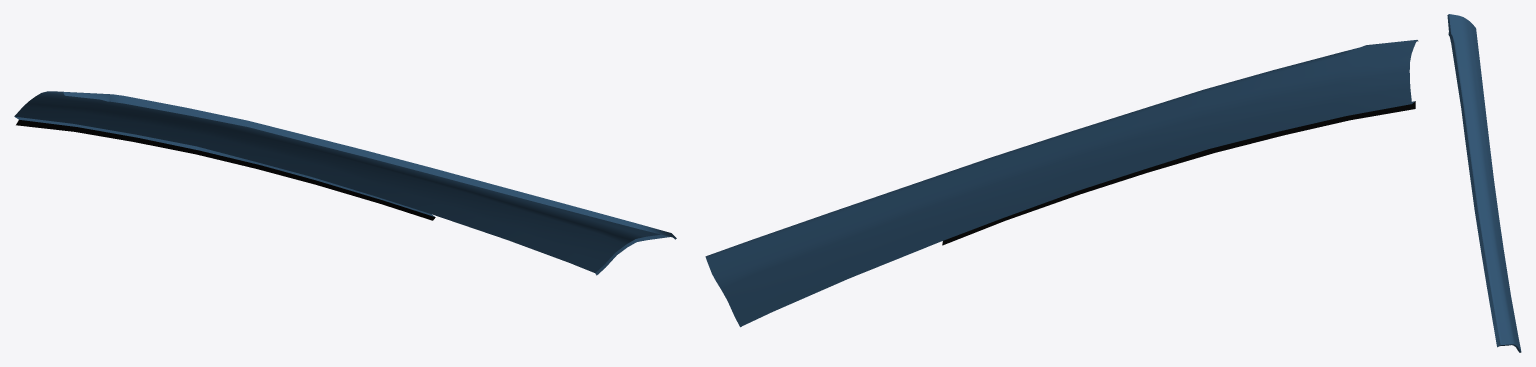
3 views of the same model, side by side, from view 1: azimuth 30°, elevation 25°; view 2: azimuth 150°, elevation 25°; view 3: azimuth 270°, elevation 25° (orthographic). The views are drawn at different scales.
Parts seen in each view (by area): view 1: Y191_13_181C_L_Y191_13_181C_L_DaS, Y191_13_181C_L_Y191_13_181C_L_DaS_E, Y191_13_181C_L_D_Y191_13_181C_L; view 2: Y191_13_181C_L_Y191_13_181C_L_DaS, Y191_13_181C_L_D_Y191_13_181C_L; view 3: Y191_13_181C_L_Y191_13_181C_L_DaS, Y191_13_181C_L_Y191_13_181C_L_DaS_E.
Part boxes in pixels (x1,y1,x2,y2): Y191_13_181C_L_Y191_13_181C_L_DaS: [14, 91, 660, 272]; Y191_13_181C_L_Y191_13_181C_L_DaS_E: [14, 92, 676, 275]; Y191_13_181C_L_D_Y191_13_181C_L: [16, 120, 435, 220]; Y191_13_181C_L_Y191_13_181C_L_DaS: [705, 40, 1416, 326]; Y191_13_181C_L_D_Y191_13_181C_L: [942, 101, 1415, 245]; Y191_13_181C_L_Y191_13_181C_L_DaS: [1449, 14, 1521, 351]; Y191_13_181C_L_Y191_13_181C_L_DaS_E: [1447, 14, 1521, 352].
Bounding box in the file's own units: 74.91 × 40.05 × 14.04.
